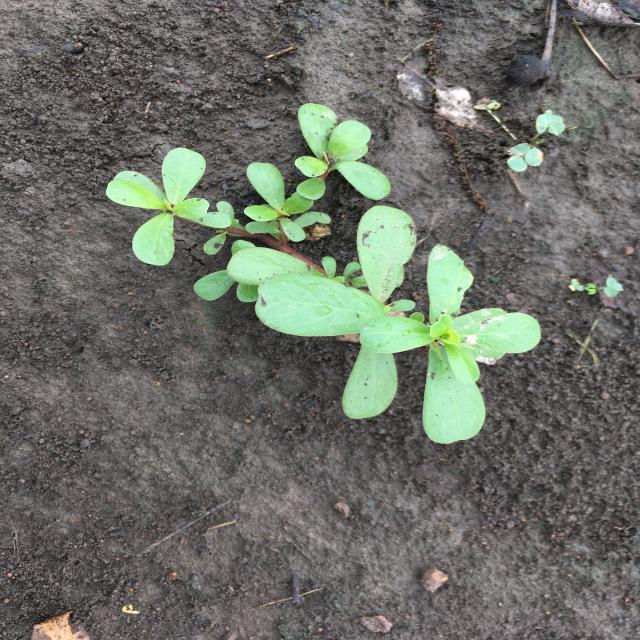Purslane: (106, 103, 540, 444)
